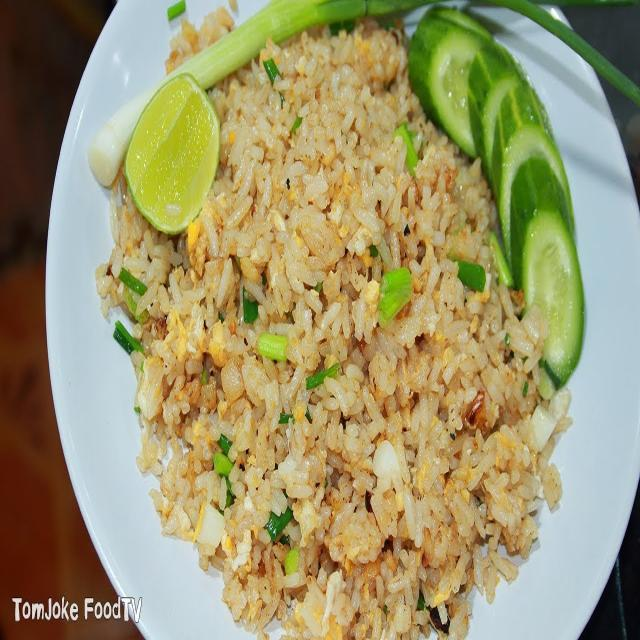carb: (155, 308, 371, 598), (389, 314, 557, 605), (237, 64, 376, 320), (392, 123, 500, 355)
fried rice: (103, 56, 508, 630)
meat: (331, 488, 394, 566)
vegetable: (444, 22, 596, 306), (382, 259, 416, 323), (262, 323, 290, 369)
